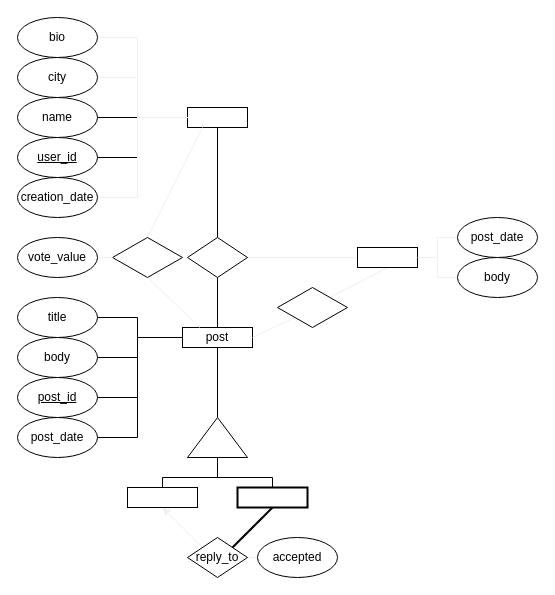
Image size: 555x595. Some labels were removed from this diagram. Here are the shapes that lost their labels. From the top down, the centre of each, then its label:
At point (217, 117): "user".
At point (147, 257): "voted_by".
At point (217, 257): "created".
At point (387, 257): "comment".
At point (312, 307): "under".
At point (217, 437): "ISA".
At point (162, 497): "question".
At point (272, 497): "answer".
